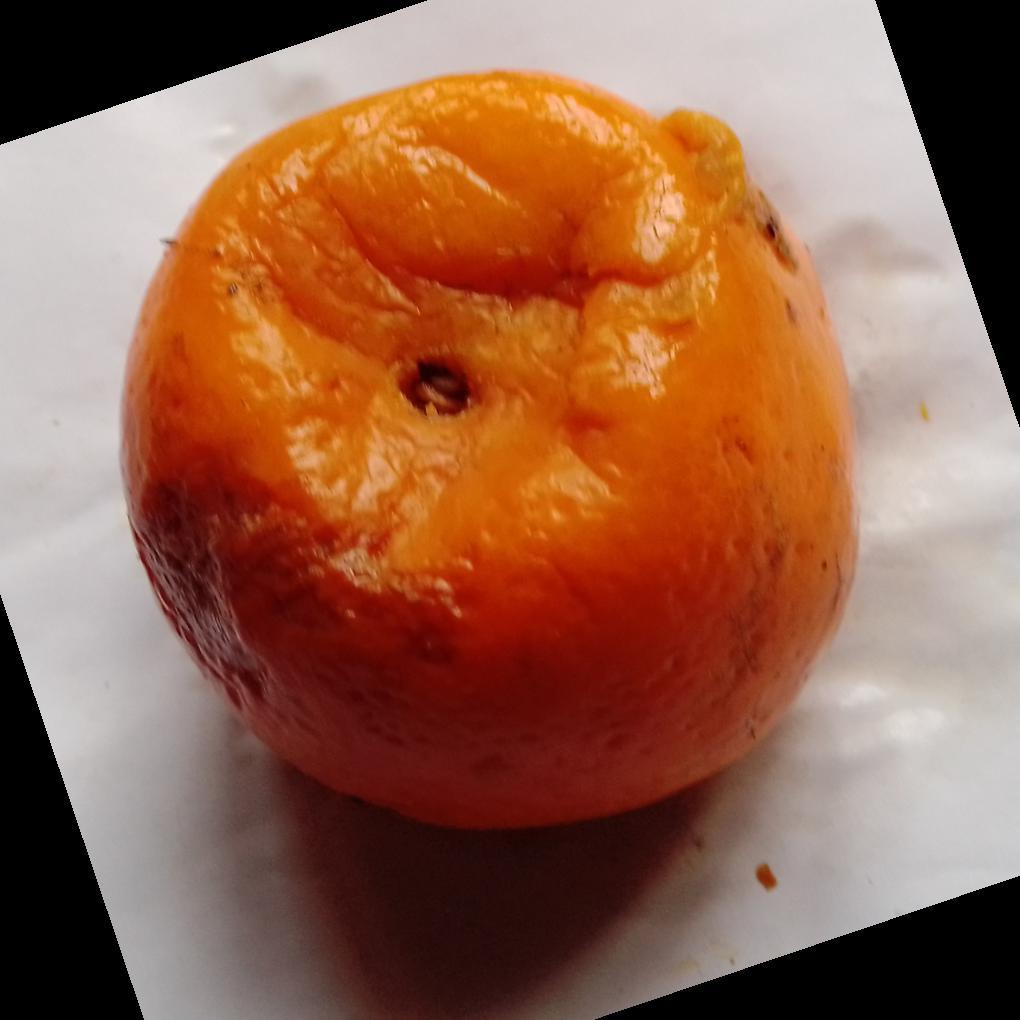FreshOrange: (118, 70, 863, 836)
